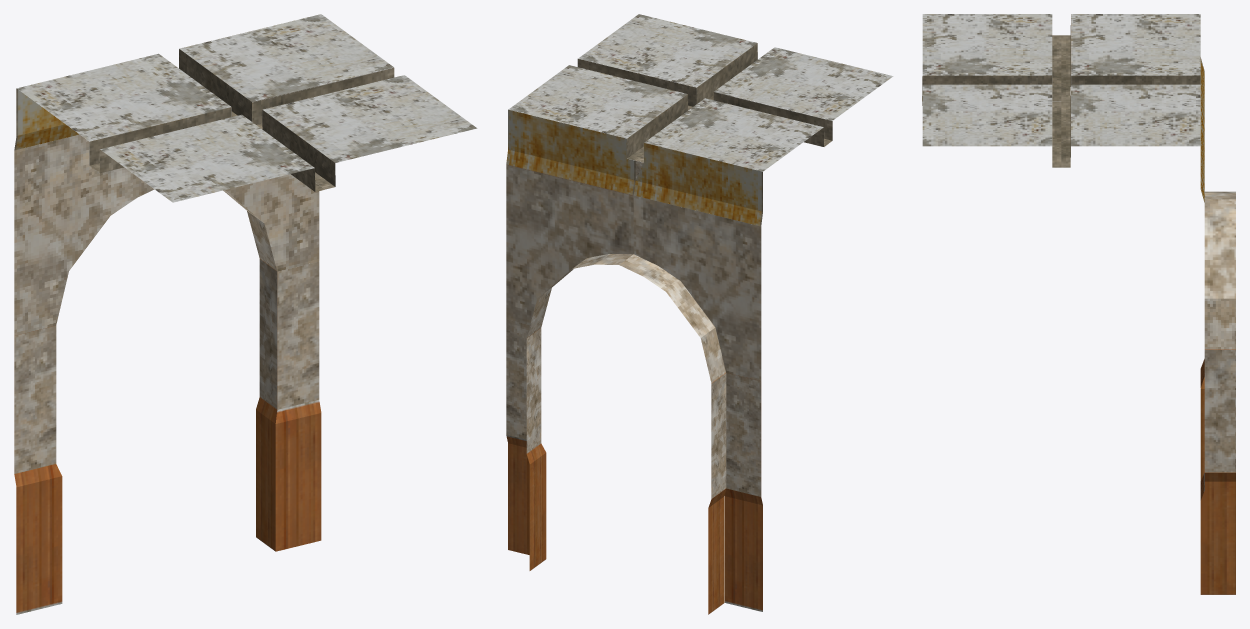
File: doorpiece.fbx
3 views of the same model, side by side, from view 1: azimuth 30°, elevation 25°; view 2: azimuth 150°, elevation 25°; view 3: azimuth 270°, elevation 25° (orthographic). The views are drawn at different scales.
Visible parts, largest first — view 1: DoorWallPiece; view 2: DoorWallPiece; view 3: DoorWallPiece.
Part boxes in pixels (<box>): DoorWallPiece: <box>14,14,477,614</box>; DoorWallPiece: <box>506,14,893,614</box>; DoorWallPiece: <box>922,14,1235,594</box>.
Size of the model in its own units: 200 by 330 by 200.
